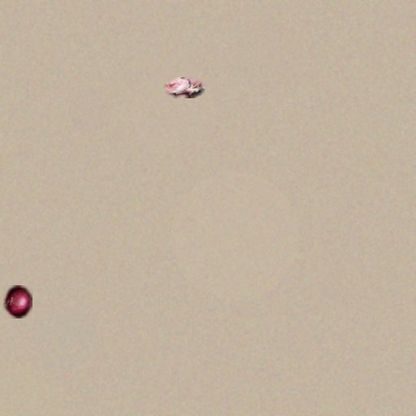healthy: (3, 285, 32, 318)
sprouted: (164, 77, 205, 98)
